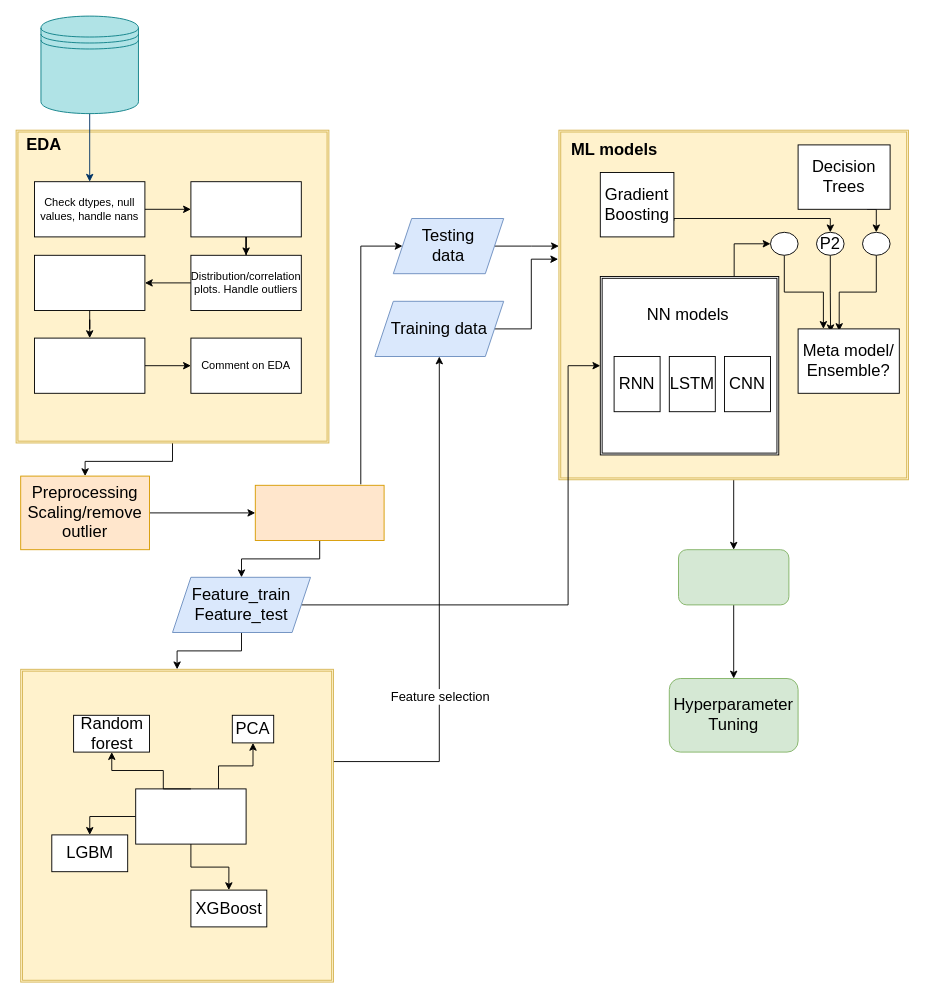
This 925x998 diagram has some shape labels left out. The centre of each missing label's shape, as x and y in pixels:
Check for skewness, imbalanced data, outliers: the point at 245,209
Dimension reduction: the point at 190,816
Evaluation: the point at 733,577
Feature pair plots: the point at 89,282
Infer from EDA: the point at 89,365
P1: the point at 784,243
P3: the point at 876,243
Split into train/test: the point at 319,512
train.csv: the point at 89,64
